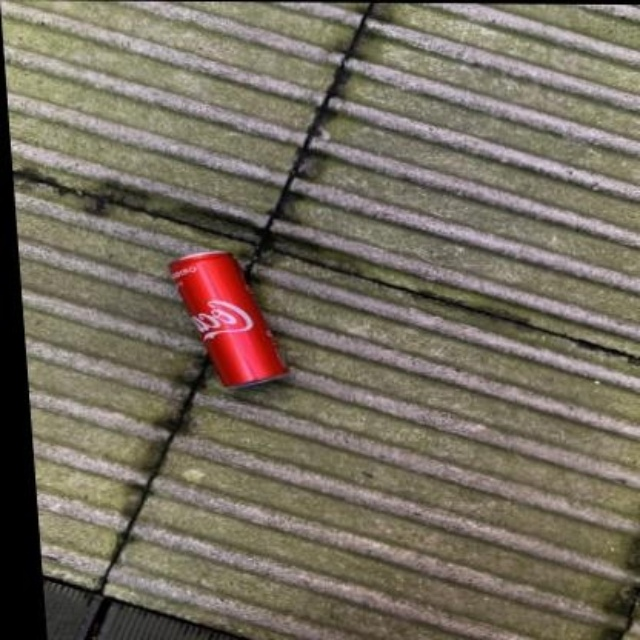trash: (171, 252, 288, 385)
